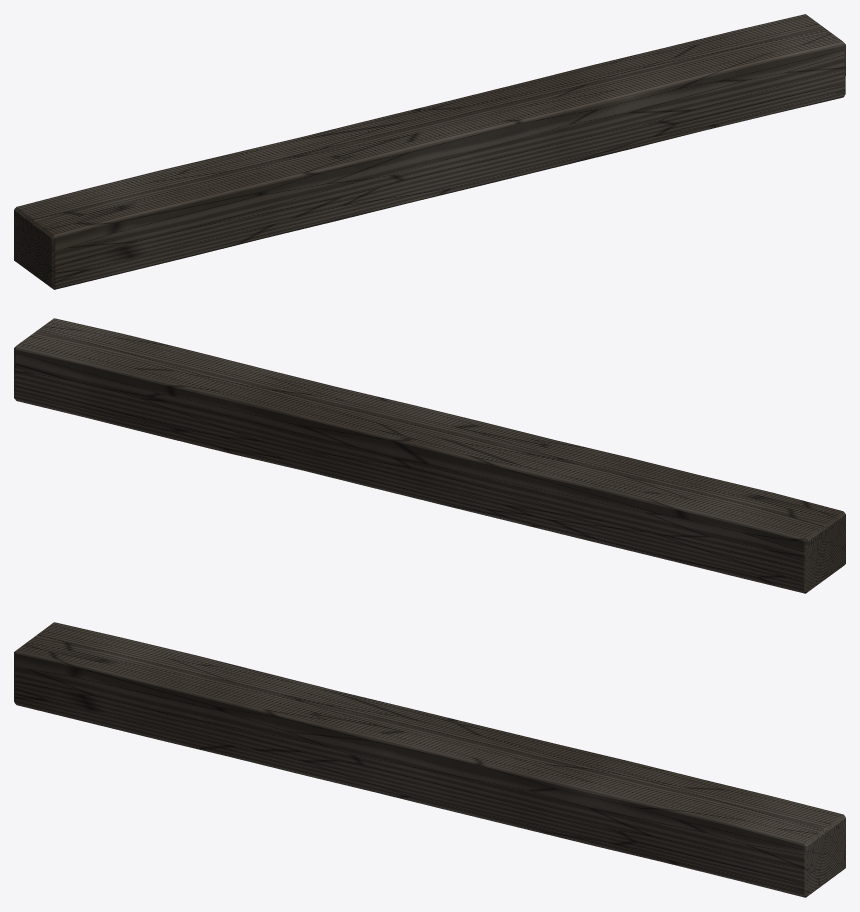
File: tie.glb
3 renders of one model, top to bottom at view 1: azimuth 30°, elevation 25°; view 2: azimuth 150°, elevation 25°; view 3: azimuth 330°, elevation 25°, orthographic.
Visible parts, largest first — view 1: Tie; view 2: Tie; view 3: Tie.
Boxes of the visible parts, x1,y1,x2,y2 form: Tie: (14, 14, 845, 289); Tie: (14, 318, 845, 593); Tie: (14, 622, 845, 897).
Size of the model in its own units: 2.59 by 0.1774 by 0.2308.
Materials: 1 (1 with a texture image).
